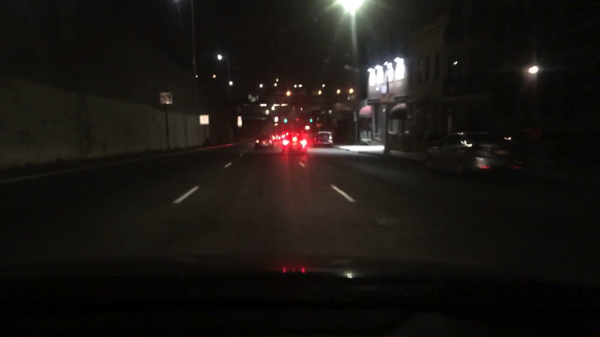car: (421, 133, 524, 176), (280, 135, 308, 154), (313, 131, 336, 147), (254, 135, 272, 148)
traffic light: (308, 117, 313, 124), (296, 116, 300, 123), (284, 117, 286, 123)
traffic sign: (160, 91, 172, 104)
